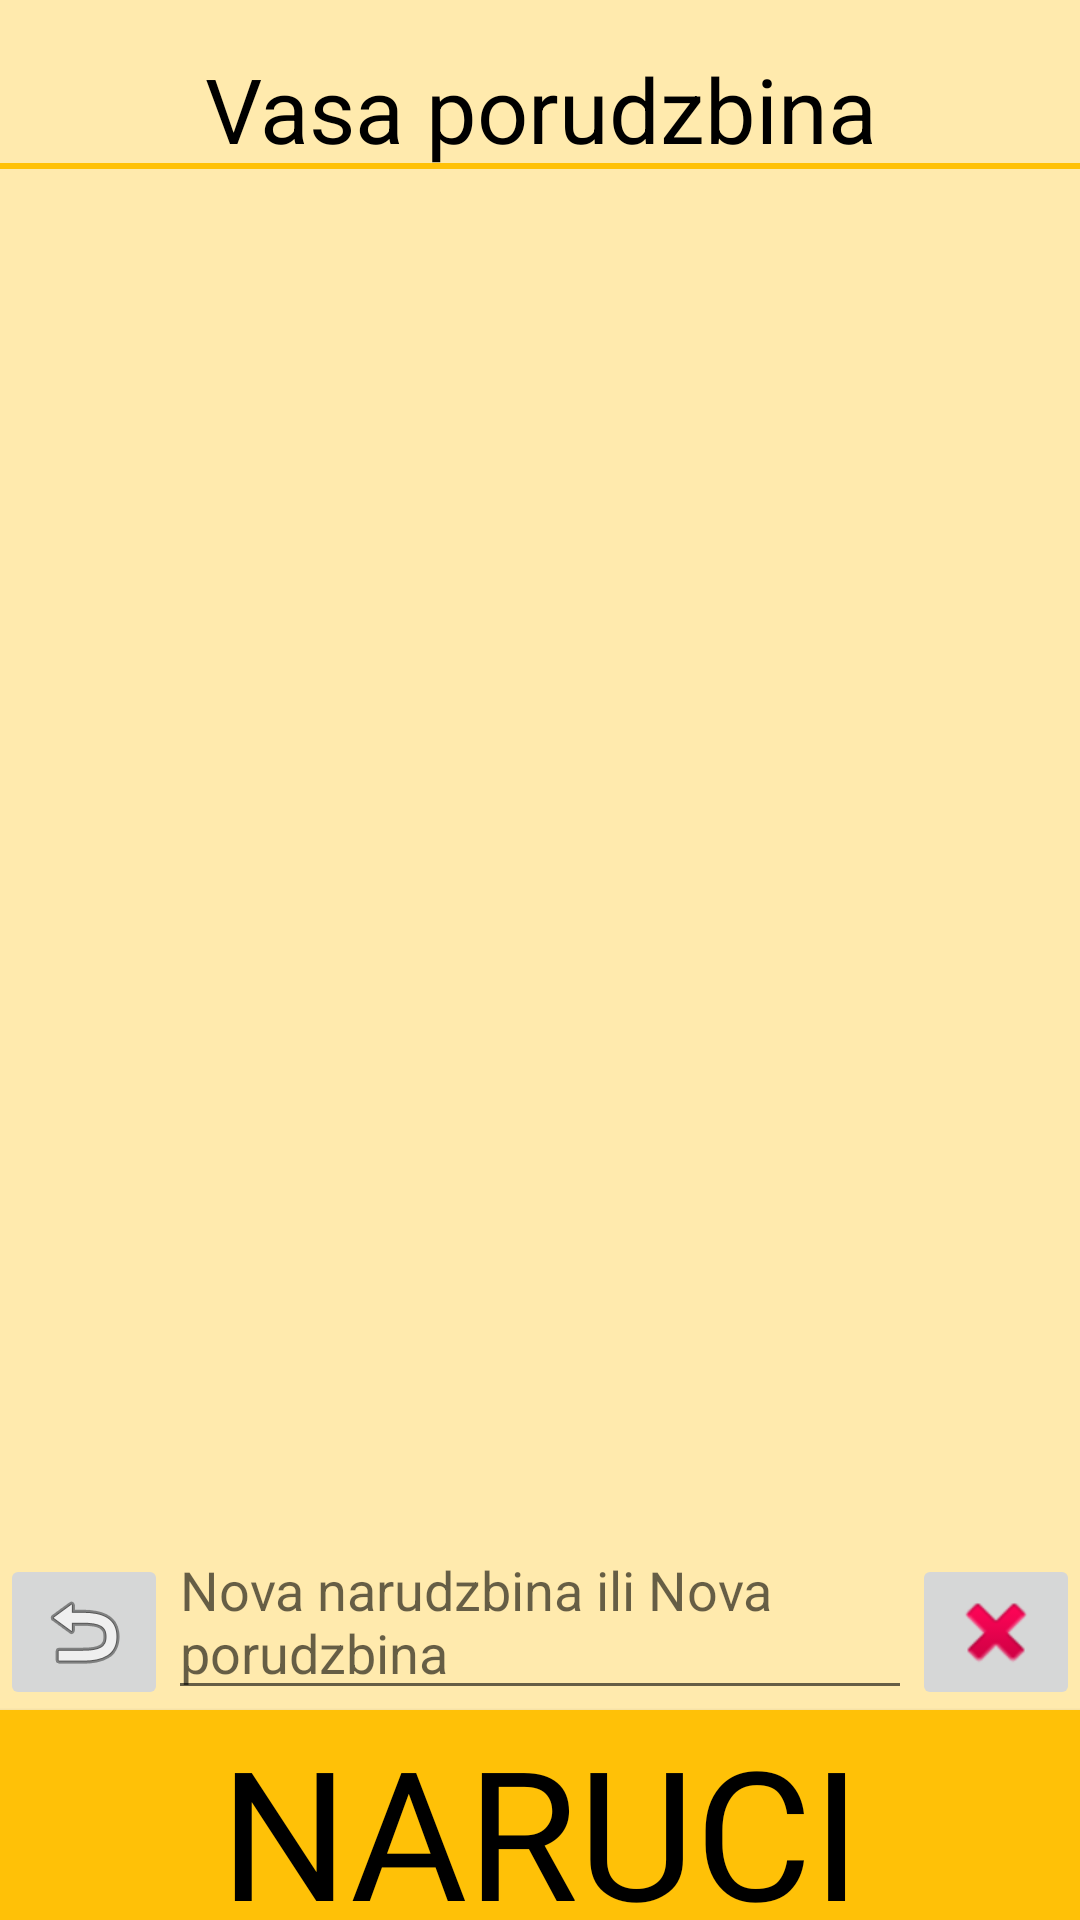

Named icons in this screenshot (1080 x 1920) and their bounding boxes, (x1, y1, x2, y2):
delete: (924, 1572, 1068, 1692)
revert: (12, 1572, 156, 1692)
